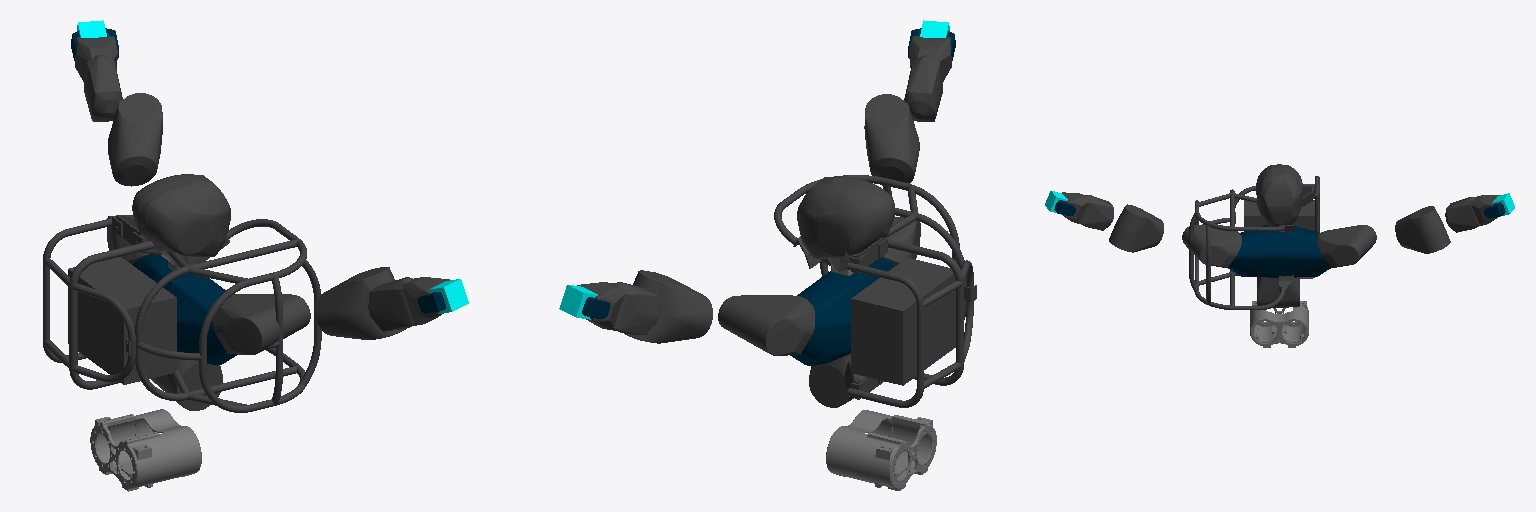
--- What the picture shows (computed from the rendered views, not written in the file) ---
Views: 3 orthographic renders of the robot side by side, from view 1: azimuth 30°, elevation 25°; view 2: azimuth 150°, elevation 25°; view 3: azimuth 270°, elevation 25°.
Model bigman with 43 links and 42 joints (21 revolute, 21 fixed), rooted at base_link, posed joints at zero except 2 at the middle of their limits (RShLat = -1.99, LShLat = 1.97).
Links seen in each view (by area): view 1: TorsoProtections, backpack, Waist, multisense/head, RShp, LShy, DWYTorso, RShy, LForearm, RForearm, DWS, LWrMot2 (+2 smaller); view 2: backpack, TorsoProtections, Waist, multisense/head, LShp, DWYTorso, RShy, LShy, RForearm, LForearm, DWS, RWrMot2 (+3 smaller); view 3: DWYTorso, TorsoProtections, multisense/head, Waist, LShy, LShp, RShy, RShp, DWS, LForearm, backpack, RForearm.
Boxes of the visible links, bbox=[...] form: TorsoProtections: bbox=[43, 215, 321, 412]; backpack: bbox=[68, 257, 176, 384]; Waist: bbox=[90, 409, 201, 491]; multisense/head: bbox=[132, 174, 230, 256]; RShp: bbox=[213, 294, 310, 354]; LShy: bbox=[108, 93, 162, 186]; DWYTorso: bbox=[132, 254, 237, 365]; RShy: bbox=[315, 267, 405, 339]; LForearm: bbox=[84, 55, 122, 121]; RForearm: bbox=[368, 277, 416, 331]; DWS: bbox=[151, 359, 222, 410]; LWrMot2: bbox=[75, 36, 117, 81]; backpack: bbox=[851, 258, 955, 385]; TorsoProtections: bbox=[774, 175, 976, 407]; Waist: bbox=[826, 410, 936, 490]; multisense/head: bbox=[797, 176, 894, 258]; LShp: bbox=[718, 295, 814, 355]; DWYTorso: bbox=[790, 258, 894, 365]; RShy: bbox=[864, 94, 919, 183]; LShy: bbox=[625, 270, 712, 343]; RForearm: bbox=[904, 55, 942, 121]; LForearm: bbox=[612, 282, 659, 334]; DWS: bbox=[809, 354, 853, 407]; RWrMot2: bbox=[909, 36, 951, 81]; DWYTorso: bbox=[1227, 225, 1331, 277]; TorsoProtections: bbox=[1189, 176, 1319, 309]; multisense/head: bbox=[1256, 164, 1302, 227]; Waist: bbox=[1250, 301, 1308, 347]; LShy: bbox=[1395, 206, 1450, 253]; LShp: bbox=[1317, 225, 1376, 267]; RShy: bbox=[1109, 204, 1163, 252]; RShp: bbox=[1182, 225, 1241, 267]; DWS: bbox=[1257, 277, 1299, 308]; LForearm: bbox=[1445, 197, 1480, 232]; backpack: bbox=[1244, 200, 1314, 230]; RForearm: bbox=[1079, 195, 1113, 230].
Size in the robot's own frame: 0.6884 by 2 by 0.8566 metres.
Meshes: 16 distinct files referenced, 17 mesh visuals loaded (12 binary STL); not drawn: 1 (reference not matched to a file when rendering), 5 (file found but could not be loaded).

robot.urdf — bigman:
<?xml version="1.0" ?>
<!-- =================================================================================== -->
<!-- |    This document was autogenerated by xacro from bigman.urdf.xacro              | -->
<!-- |    EDITING THIS FILE BY HAND IS NOT RECOMMENDED                                 | -->
<!-- =================================================================================== -->
<robot name="bigman" xmlns:xacro="http://ros.org/wiki/xacro">
  <!-- 
  ROS urdf definition of the BIGMAN humanoid robot by Istituto Italiano di Tecnologia
  
  DO NOT INCLUDE THIS FILE DIRECTLY! USE bigman_robot.urdf.xacro INSTEAD!

  Author: Enrico Mingo & Alessio Rocchi

  Inertial matrix has to be in CoM frame (URDF specs)

  Velocity and effort limits are fake!
-->
  <material name="grey">
    <color rgba="0.5 0.5 0.5 1"/>
  </material>
  <material name="dark_grey">
    <color rgba="0.3 0.3 0.3 1"/>
  </material>
  <material name="blue">
    <color rgba="0.0 0.2 0.3 1"/>
  </material>
  <!-- 
  ROS urdf definition of the BIGMAN humanoid robot by Istituto Italiano di Tecnologia
  
  DO NOT INCLUDE THIS FILE DIRECTLY! USE bigman_robot.urdf.xacro INSTEAD!

  Author: Enrico Mingo & Alessio Rocchi

  Inertial matrix has to be in CoM frame (URDF specs)

  Velocity and effort limits are fake!
-->
  <!--
The coordinate frame called base_link is rigidly attached to the robot root body. It is recommended to choose the robot waist as its root body. The base_link can be attached to the root in any arbitrary position or orientation; for every hardware platform there will be a different place on the base that provides an obvious point of reference. Note that REP 103 [1] specifies a preferred orientation for frames. -->
  <link name="base_link"/>
  <link name="Waist">
    <inertial>
      <origin rpy="0.0 0.0 0.0" xyz="-0.022813402 -0.00073935443 0.030422909"/>
      <mass value="1.1046081e+01"/>
      <inertia ixx="0.096207978" ixy="0.00014081043" ixz="0.0031258127" iyy="0.098511158" iyz="0.00013938149" izz="0.086541531"/>
    </inertial>
    <visual>
      <origin rpy="0 0 0" xyz="0 0 0"/>
      <geometry name="Waist_visual">
        <mesh filename="package://bigman_urdf/meshes/Waist.STL" scale="0.001 0.001 0.001"/>
      </geometry>
      <material name="grey"/>
    </visual>
    <collision>
      <origin rpy="0 0 0" xyz="0 0 0"/>
      <geometry name="Waist_collision">
        <mesh filename="package://bigman_urdf/meshes/simple/Waist.STL" scale="0.001 0.001 0.001"/>
      </geometry>
    </collision>
  </link>
  <joint name="base_joint" type="fixed">
    <parent link="base_link"/>
    <child link="Waist"/>
    <origin rpy="0 0 0" xyz="0 0 0"/>
  </joint>
  <!-- Scale factor for meshes -->
  <!-- LINKS -->
  <!-- This links are defined in order to be compliant with http://www.ros.org/reps/rep-0120.html#coordinate-frames
and to define the end effectors of the robot-->
  <!-- The coordinate frame called torso is attached to the lowest body of the model which is a parent of l_gripper, r_gripper and gaze. -->
  <link name="torso"/>
  <link name="DWL">
    <inertial>
      <origin rpy="0 0 0" xyz="-0.04610869 0.02232230 -0.02249514"/>
      <mass value="1.44965471"/>
      <inertia ixx="0.01096760" ixy="0.00111556" ixz="0.00030030" iyy="0.00409572" iyz="0.00054456" izz="0.01143795"/>
    </inertial>
    <visual>
      <origin rpy="0 0 0" xyz="0.0 0.0 0.0"/>
      <geometry name="DWL_visual">
        <mesh filename="package://bigman_urdf/meshes/TorsoRoll.STL" scale="0.001 0.001 0.001"/>
      </geometry>
      <material name="dark_grey"/>
    </visual>
    <collision>
      <origin rpy="0 0 0" xyz="0.0 0.0 0.0"/>
      <geometry name="DWL_collision">
        <mesh filename="package://bigman_urdf/meshes/simple/TorsoRoll.STL" scale="0.001 0.001 0.001"/>
      </geometry>
    </collision>
  </link>
  <link name="DWS">
    <inertial>
      <origin rpy="0 0 0" xyz="0.00010203 0.00928164 0.08113610"/>
      <mass value="5.28825567"/>
      <inertia ixx="0.01628069" ixy="-0.00000323" ixz="0.00001424" iyy="0.01424286" iyz="0.00075458" izz="0.00994169"/>
    </inertial>
    <visual>
      <origin rpy="0 0 0" xyz="0.0 0.0 0.0"/>
      <geometry name="DWS_visual">
        <mesh filename="package://bigman_urdf/meshes/TorsoYawPitch.STL" scale="0.001 0.001 0.001"/>
      </geometry>
      <material name="dark_grey"/>
    </visual>
    <collision>
      <origin rpy="0 0 0" xyz="0.0 0.0 0.0"/>
      <geometry name="DWS_collision">
        <mesh filename="package://bigman_urdf/meshes/simple/TorsoYawPitch.STL" scale="0.001 0.001 0.001"/>
      </geometry>
    </collision>
  </link>
  <link name="DWYTorso">
    <inertial>
      <origin rpy="0 0 0" xyz="0.0 0.00 0.3"/>
      <mass value="26"/>
      <inertia ixx="0.18629757" ixy="0.00008160" ixz="0.00030250" iyy="0.02013829" iyz="-0.00001790" izz="0.18850541"/>
    </inertial>
    <visual>
      <origin rpy="0 0 0" xyz="0.0 0.0 0.0"/>
      <geometry name="DWYTorso_visual">
        <mesh filename="package://bigman_urdf/meshes/NewChest.STL" scale="0.001 0.001 0.001"/>
      </geometry>
      <material name="blue"/>
    </visual>
    <collision>
      <origin rpy="0 0 0" xyz="0.0 0.0 0.0"/>
      <geometry name="DWYTorso_collision">
        <mesh filename="package://bigman_urdf/meshes/simple/NewChest.STL" scale="0.001 0.001 0.001"/>
      </geometry>
    </collision>
  </link>
  <link name="TorsoProtections">
    <inertial>
      <origin rpy="0 0 0" xyz="-0.082963193 7.0747291e-07 0.075409106"/>
      <mass value="4.7"/>
      <inertia ixx="0.14773769" ixy="0.0" ixz="-0.029780072" iyy="0.16085511" iyz="0.0" izz="0.15409381"/>
    </inertial>
    <visual>
      <origin rpy="0 0 0" xyz="0.0 0.0 0.0"/>
      <geometry name="TorsoProtections_visual">
        <mesh filename="package://bigman_urdf/meshes/ProtectionSystem.STL" scale="0.001 0.001 0.001"/>
      </geometry>
      <material name="dark_grey"/>
    </visual>
    <collision>
      <origin rpy="0 0 0" xyz="0.0 0.0 0.0"/>
      <geometry name="TorsoProtections_collision">
        <mesh filename="package://bigman_urdf/meshes/simple/ProtectionSystem.STL" scale="0.001 0.001 0.001"/>
      </geometry>
    </collision>
  </link>
  <link name="backpack">
    <inertial>
      <origin rpy="0 0 0" xyz="0 0 -0.065"/>
      <mass value="10.0"/>
      <inertia ixx="0.0890833333333" ixy="0.0" ixz="0.0" iyy="0.0354166666667" iyz="0.0" izz="0.0963333333333"/>
    </inertial>
    <visual>
      <origin rpy="0 0 0" xyz="0.0 0.0 0.0"/>
      <geometry name="backpack_visual">
        <box size="0.16 0.3 0.22"/>
      </geometry>
      <material name="dark_grey"/>
    </visual>
    <collision>
      <origin rpy="0 0 0" xyz="0.0 0.0 0.0"/>
      <geometry name="backpack_collision">
        <box size="0.16 0.3 0.22"/>
      </geometry>
    </collision>
  </link>
  <joint name="backpack_joint" type="fixed">
    <parent link="DWYTorso"/>
    <child link="backpack"/>
    <origin rpy="0 0 0" xyz="-0.185 0 -0.025"/>
  </joint>
  <joint name="torso_protection_joint" type="fixed">
    <parent link="DWYTorso"/>
    <child link="TorsoProtections"/>
    <origin rpy="0 0 0" xyz="0.0 0 0.0"/>
  </joint>
  <joint name="torso_joint" type="fixed">
    <parent link="DWYTorso"/>
    <child link="torso"/>
    <origin rpy="0 0 0" xyz="0.0 0 0.0"/>
  </joint>
  <joint name="WaistLat" type="revolute">
    <parent link="Waist"/>
    <child link="DWL"/>
    <origin rpy="0 0 0" xyz="0.1115 0 0.195982"/>
    <axis xyz="0.89879991307 0 0.43835911792"/>
    <limit effort="120" lower="-0.610865238198" upper="0.610865238198" velocity="6.283"/>
    <dynamics damping="3.0" friction="0"/>
  </joint>
  <joint name="WaistSag" type="revolute">
    <parent link="DWL"/>
    <child link="DWS"/>
    <origin rpy="0 0 0" xyz="0 0 0"/>
    <axis xyz="0 1 0"/>
    <limit effort="220" lower="-0.349065850399" upper="1.3962634016" velocity="6.283"/>
    <dynamics damping="3.0" friction="0"/>
  </joint>
  <joint name="WaistYaw" type="revolute">
    <parent link="DWS"/>
    <child link="DWYTorso"/>
    <origin rpy="0 0 0" xyz="0 0 0.22275"/>
    <axis xyz="0 0 1"/>
    <limit effort="120" lower="-2.84488668075" upper="2.84488668075" velocity="6.283"/>
    <dynamics damping="3.0" friction="0"/>
  </joint>
  <!-- LINKS -->
  <link name="NeckYaw">
    <inertial>
      <origin rpy="0 0 0" xyz="0.0 0.0 0.1155"/>
      <mass value="0.35"/>
      <inertia ixx="0.00032840119" ixy="0.0" ixz="0.0" iyy="7.0371675e-05" iyz="0.0" izz="0.00032840111"/>
    </inertial>
    <visual>
      <origin rpy="0 0 0" xyz="0.0 0.0 0.0"/>
      <geometry name="NeckYaw_visual">
        <mesh filename="package://bigman_urdf/meshes/NeckYaw.STL" scale="0.001 0.001 0.001"/>
      </geometry>
      <material name="grey"/>
    </visual>
    <collision>
      <origin rpy="0 0 0" xyz="0.0 0.0 0.0"/>
      <geometry name="NeckYaw_collision">
        <mesh filename="package://bigman_urdf/meshes/simple/NeckYaw.STL" scale="0.001 0.001 0.001"/>
      </geometry>
    </collision>
  </link>
  <link name="NeckPitch">
    <inertial>
      <origin rpy="0 0 0" xyz="-0.102 0.0 0.26575"/>
      <mass value="0.623"/>
      <inertia ixx="0.0010388333" ixy="0.0" ixz="0.0" iyy="0.00054689381" iyz="0.0" izz="0.00054689381"/>
    </inertial>
    <visual>
      <origin rpy="0 0 0" xyz="0.0 0.0 0.0"/>
      <geometry name="NeckPitch_visual">
        <mesh filename="package://bigman_urdf/meshes/NeckPitch.STL" scale="0.001 0.001 0.001"/>
      </geometry>
      <material name="grey"/>
    </visual>
    <collision>
      <origin rpy="0 0 0" xyz="0.0 0.0 0.0"/>
      <geometry name="NeckPitch_collision">
        <mesh filename="package://bigman_urdf/meshes/simple/NeckPitch.STL" scale="0.001 0.001 0.001"/>
      </geometry>
    </collision>
  </link>
  <!-- JOINTS -->
  <joint name="NeckYawj" type="revolute">
    <parent link="DWYTorso"/>
    <child link="NeckYaw"/>
    <origin rpy="0 0 0" xyz="0 0 0"/>
    <axis xyz="0 0 1"/>
    <!--     <limit velocity="6.283" effort="120" lower="${(-175.0)*toRad}" upper="${(175.0)*toRad}" /> -->
    <limit effort="120" lower="-0.610865238198" upper="0.610865238198" velocity="6.283"/>
    <dynamics damping="3.0" friction="0"/>
  </joint>
  <joint name="NeckPitchj" type="revolute">
    <parent link="NeckYaw"/>
    <child link="NeckPitch"/>
    <origin rpy="0 0 0" xyz="0 0 0.117"/>
    <axis xyz="0 1 0"/>
    <!--limit velocity="6.283" effort="120" lower="${(-30.0)*toRad}" upper="${(70.0)*toRad}" /-->
    <limit effort="120" lower="-0.261799387799" upper="1.0471975512" velocity="6.283"/>
    <dynamics damping="3.0" friction="0"/>
  </joint>
  <!-- LINKS -->
  <!-- RIGHT ARM -->
  <link name="RShp">
    <inertial>
      <origin rpy="0 0 0" xyz="-0.00543349 -0.04480023 0.01581062"/>
      <mass value="1.81745527"/>
      <inertia ixx="0.00571053" ixy="0.00041083" ixz="-0.00005130" iyy="0.01126908" iyz="-0.00003461" izz="0.01371197"/>
    </inertial>
    <visual>
      <origin rpy="0 0 0" xyz="0 0 0"/>
      <geometry name="RShp_visual">
        <mesh filename="package://bigman_urdf/meshes/ShoulderPitch.STL" scale="0.001 0.001 0.001"/>
      </geometry>
      <material name="dark_grey"/>
    </visual>
    <collision>
      <origin rpy="0 0 0" xyz="0 0 0"/>
      <geometry name="RShp_collision">
        <mesh filename="package://bigman_urdf/meshes/simple/ShoulderPitch.STL" scale="0.001 0.001 0.001"/>
      </geometry>
    </collision>
  </link>
  <link name="RShr">
    <inertial>
      <origin rpy="0 0 0" xyz="0.00729315 0.00002698 -0.07529696"/>
      <mass value="5.00486460"/>
      <inertia ixx="0.01644345" ixy="-0.00001187" ixz="-0.00010546" iyy="0.01804804" iyz="-0.00000565" izz="0.00802420"/>
    </inertial>
    <visual>
      <origin rpy="0 0 0" xyz="0 0 0"/>
      <geometry name="RShr_visual">
        <mesh filename="package://bigman_urdf/meshes/TopUpperArm.STL" scale="0.001 0.001 0.001"/>
      </geometry>
      <material name="dark_grey"/>
    </visual>
    <collision>
      <origin rpy="0 0 0" xyz="0 0 0"/>
      <geometry name="RShr_collision">
        <mesh filename="package://bigman_urdf/meshes/simple/TopUpperArm.STL" scale="0.001 0.001 0.001"/>
      </geometry>
    </collision>
  </link>
  <link name="RShy">
    <inertial>
      <origin rpy="0 0 0" xyz="0.02765373 -0.03258647 -0.12698781"/>
      <mass value="3.20289133"/>
      <inertia ixx="0.01129046" ixy="0.00013518" ixz="-0.00134760" iyy="0.00984951" iyz="-0.00026836" izz="0.00728549"/>
    </inertial>
    <visual>
      <origin rpy="0 0 0" xyz="0 0 0"/>
      <geometry name="RShy_visual">
        <mesh filename="package://bigman_urdf/meshes/BottomUpperArm.STL" scale="0.001 0.001 0.001"/>
      </geometry>
      <material name="dark_grey"/>
    </visual>
    <collision>
      <origin rpy="0 0 0" xyz="0 0 0"/>
      <geometry name="RShy_collision">
        <mesh filename="package://bigman_urdf/meshes/simple/BottomUpperArm.STL" scale="0.001 0.001 0.001"/>
      </geometry>
    </collision>
  </link>
  <link name="RElb">
    <inertial>
      <origin rpy="0 0 0" xyz="-0.055754915 -0.007582604 -0.043820396"/>
      <mass value="8.6765385e-01"/>
      <inertia ixx="0.0040395238" ixy="0.00034973136" ixz="-0.00068400465" iyy="0.0022460561" iyz="0.00028844444" izz="0.0044895027"/>
    </inertial>
    <visual>
      <origin rpy="0 0 0" xyz="0 0 0"/>
      <geometry name="RElb_visual">
        <mesh filename="package://bigman_urdf/meshes/Elbow.STL" scale="0.001 0.001 0.001"/>
      </geometry>
      <material name="dark_grey"/>
    </visual>
    <collision>
      <origin rpy="0 0 0" xyz="0 0 0"/>
      <geometry name="RElb_collision">
        <mesh filename="package://bigman_urdf/meshes/simple/Elbow.STL" scale="0.001 0.001 0.001"/>
      </geometry>
    </collision>
  </link>
  <!-- LEFT ARM -->
  <link name="LShp">
    <inertial>
      <origin rpy="0 0 0" xyz="-0.00543349 0.04480023 0.01581062"/>
      <mass value="1.81745527"/>
      <inertia ixx="0.00571053" ixy="-0.00041083" ixz="-0.00005130" iyy="0.01126908" iyz="0.00003461" izz="0.01371197"/>
    </inertial>
    <visual>
      <origin rpy="0 0 0" xyz="0 0 0"/>
      <geometry name="LShp_visual">
        <mesh filename="package://bigman_urdf/meshes/ShoulderPitch.STL" scale="0.001 -0.001 0.001"/>
      </geometry>
      <material name="dark_grey"/>
    </visual>
    <collision>
      <origin rpy="0 0 0" xyz="0 0 0"/>
      <geometry name="LShp_collision">
        <mesh filename="package://bigman_urdf/meshes/simple/ShoulderPitch.STL" scale="0.001 -0.001 0.001"/>
      </geometry>
    </collision>
  </link>
  <link name="LShr">
    <inertial>
      <origin rpy="0 0 0" xyz="0.00729315 -0.00002698 -0.07529696"/>
      <mass value="5.00486460"/>
      <inertia ixx="0.01644345" ixy="0.00001187" ixz="-0.00010546" iyy="0.01804804" iyz="0.00000565" izz="0.00802420"/>
    </inertial>
    <visual>
      <origin rpy="0 0 0" xyz="0 0 0"/>
      <geometry name="LShr_visual">
        <mesh filename="package://bigman_urdf/meshes/TopUpperArm.STL" scale="0.001 -0.001 0.001"/>
      </geometry>
      <material name="dark_grey"/>
    </visual>
    <collision>
      <origin rpy="0 0 0" xyz="0 0 0"/>
      <geometry name="LShr_collision">
        <mesh filename="package://bigman_urdf/meshes/simple/TopUpperArm.STL" scale="0.001 -0.001 0.001"/>
      </geometry>
    </collision>
  </link>
  <link name="LShy">
    <inertial>
      <origin rpy="0 0 0" xyz="0.02765373 0.03258647 -0.12698781"/>
      <mass value="3.20289133"/>
      <inertia ixx="0.01129046" ixy="-0.00013518" ixz="-0.00134760" iyy="0.00984951" iyz="0.00026836" izz="0.00728549"/>
    </inertial>
    <visual>
      <origin rpy="0 0 0" xyz="0 0 0"/>
      <geometry name="LShy_visual">
        <mesh filename="package://bigman_urdf/meshes/BottomUpperArm.STL" scale="0.001 -0.001 0.001"/>
      </geometry>
      <material name="dark_grey"/>
    </visual>
    <collision>
      <origin rpy="0 0 0" xyz="0 0 0"/>
      <geometry name="LShy_collision">
        <mesh filename="package://bigman_urdf/meshes/simple/BottomUpperArm.STL" scale="0.001 -0.001 0.001"/>
      </geometry>
    </collision>
  </link>
  <link name="LElb">
    <inertial>
      <origin rpy="0 0 0" xyz="-0.055754915 0.007582604 -0.043820396"/>
      <mass value="8.6765385e-01"/>
      <inertia ixx="0.0040395238" ixy="-0.00034973136" ixz="-0.00068400465" iyy="0.0022460561" iyz="-0.00028844444" izz="0.0044895027"/>
    </inertial>
    <visual>
      <origin rpy="0 0 0" xyz="0 0 0"/>
      <geometry name="LElb_visual">
        <mesh filename="package://bigman_urdf/meshes/Elbow.STL" scale="0.001 -0.001 0.001"/>
      </geometry>
      <material name="dark_grey"/>
    </visual>
    <collision>
      <origin rpy="0 0 0" xyz="0 0 0"/>
      <geometry name="LElb_collision">
        <mesh filename="package://bigman_urdf/meshes/simple/Elbow.STL" scale="0.001 -0.001 0.001"/>
      </geometry>
    </collision>
  </link>
  <!-- JOINTS -->
  <!-- RIGHT ARM -->
  <joint name="RShSag" type="revolute">
    <parent link="DWYTorso"/>
    <child link="RShp"/>
    <origin rpy="0 0 0.3491" xyz="0.045646 -0.219164 0.001531"/>
    <axis xyz="0 0.743144825 -0.669130606"/>
    <limit effort="120" lower="-2.84488668075" upper="2.80998009571" velocity="6.283"/>
    <dynamics damping="3.0" friction="0"/>
  </joint>
  <joint name="RShLat" type="revolute">
    <parent link="RShp"/>
    <child link="RShr"/>
    <origin rpy="0 0 0" xyz="0.0 -0.116568264 0.03364"/>
    <axis xyz="1 0 0"/>
    <limit effort="120" lower="-3.85717764691" upper="-0.12217304764" velocity="6.283"/>
    <dynamics damping="3.0" friction="0"/>
  </joint>
  <joint name="RShYaw" type="revolute">
    <parent link="RShr"/>
    <child link="RShy"/>
    <origin rpy="0 0 0" xyz="0.0 0.0 -0.222"/>
    <axis xyz="0 0 1"/>
    <limit effort="120" lower="-2.86233997327" upper="2.82743338823" velocity="6.283"/>
    <dynamics damping="3.0" friction="0"/>
  </joint>
  <joint name="RElbj" type="revolute">
    <parent link="RShy"/>
    <child link="RElb"/>
    <origin rpy="0 0 0" xyz="0.036 0.0 -0.15"/>
    <axis xyz="0 1 0"/>
    <limit effort="120" lower="-2.96705972839" upper="0.593411945678" velocity="6.283"/>
    <dynamics damping="3.0" friction="0"/>
  </joint>
  <!-- LEFT ARM -->
  <joint name="LShSag" type="revolute">
    <parent link="DWYTorso"/>
    <child link="LShp"/>
    <origin rpy="0 0 -0.3491" xyz="0.045646 0.219164 0.001531"/>
    <axis xyz="0.0 0.743144825 0.669130606"/>
    <limit effort="120" lower="-2.87979326579" upper="2.79252680319" velocity="6.283"/>
    <dynamics damping="3.0" friction="0"/>
  </joint>
  <joint name="LShLat" type="revolute">
    <parent link="LShp"/>
    <child link="LShr"/>
    <origin rpy="0 0 0" xyz="0.0 0.116568264 0.03364"/>
    <axis xyz="1 0 0"/>
    <limit effort="120" lower="0.0872664625997" upper="3.85717764691" velocity="6.283"/>
    <dynamics damping="3.0" friction="0"/>
  </joint>
  <joint name="LShYaw" type="revolute">
    <parent link="LShr"/>
    <child link="LShy"/>
    <origin rpy="0 0 0" xyz="0.0 0.0 -0.222"/>
    <axis xyz="0 0 1"/>
    <limit effort="120" lower="-2.84488668075" upper="2.84488668075" velocity="6.283"/>
    <dynamics damping="3.0" friction="0"/>
  </joint>
  <joint name="LElbj" type="revolute">
    <parent link="LShy"/>
    <child link="LElb"/>
    <origin rpy="0 0 0" xyz="0.036 0.0 -0.15"/>
    <axis xyz="0 1 0"/>
    <limit effort="120" lower="-2.96705972839" upper="0.593411945678" velocity="6.283"/>
    <dynamics damping="3.0" friction="0"/>
  </joint>
  <link name="l_arm_ft"/>
  <link name="r_arm_ft"/>
  <joint name="l_arm_ft_joint" type="fixed">
    <parent link="LWrMot3"/>
    <child link="l_arm_ft"/>
    <origin rpy="0 0 0" xyz="0 0 -0.0565"/>
  </joint>
  <joint name="r_arm_ft_joint" type="fixed">
    <parent link="RWrMot3"/>
    <child link="r_arm_ft"/>
    <origin rpy="0 0 0" xyz="0 0 -0.0565"/>
  </joint>
  <!-- ************ FOREARMS ************ -->
  <!-- This links are defined in order to be compliant with http://www.ros.org/reps/rep-0120.html#coordinate-frames
	and to define the end effectors of the robot -->
  <!-- position and orientation of the arm regardless of the tool (grasping device for instance) attached to it -->
  <link name="l_wrist"/>
  <link name="r_wrist"/>
  <!-- ****************LINKS**************** -->
  <!-- ****************LEFT FOREARM**************** -->
  <link name="LForearm">
    <inertial>
      <origin rpy="0 0 0" xyz="1.2625599e-05 0.0042975381 0.044717986"/>
      <mass value="2.2127686"/>
      <inertia ixx="0.0065428368" ixy="-4.1196967e-05" ixz="3.272727e-06" iyy="0.005587829" iyz="0.00042088668" izz="0.0024783023"/>
    </inertial>
    <visual>
      <origin rpy="0 0 0" xyz="0 0 0"/>
      <geometry name="LForearm_visual">
        <mesh filename="package://bigman_urdf/meshes/Forearm.STL" scale="0.001 -0.001 0.001"/>
      </geometry>
      <material name="dark_grey"/>
    </visual>
    <collision>
      <origin rpy="0 0 0" xyz="0 0 0"/>
      <geometry name="LForearm_collision">
        <mesh filename="package://bigman_urdf/meshes/simple/Forearm.STL" scale="0.001 -0.001 0.001"/>
      </geometry>
    </collision>
  </link>
  <link name="LWrMot2">
    <inertial>
      <origin rpy="0 0 0" xyz="0.009819377 0.0013797184 -0.080380065"/>
      <mass value="1.2838072"/>
      <inertia ixx="0.001994124" ixy="2.569706e-05" ixz="0.00017443538" iyy="0.0021755329" iyz="-0.00012100987" izz="0.001830376"/>
    </inertial>
    <visual>
      <origin rpy="0 0 0" xyz="0 0 0"/>
      <geometry name="LWrMot2_visual">
        <mesh filename="package://bigman_urdf/meshes/ForearmPitch.STL" scale="0.001 -0.001 0.001"/>
      </geometry>
      <material name="dark_grey"/>
    </visual>
    <collision>
      <origin rpy="0 0 0" xyz="0 0 0"/>
      <geometry name="LWrMot2_collision">
        <mesh filename="package://bigman_urdf/meshes/simple/ForearmPitch.STL" scale="0.001 -0.001 0.001"/>
      </geometry>
    </collision>
  </link>
  <link name="LWrMot3">
    <inertial>
      <origin rpy="0 0 0" xyz="0.0070380706 -1.0811188e-05 -0.039669274"/>
      <mass value="4.2801447e-01"/>
      <inertia ixx="0.00028620156" ixy="5.2570457e-08" ixz="-3.9174213e-05" iyy="0.00071261855" iyz="-9.5020266e-08" izz="0.00061444258"/>
    </inertial>
    <visual>
      <origin rpy="0 0 0" xyz="0 0 0"/>
      <geometry name="LWrMot3_visual">
        <mesh filename="package://bigman_urdf/meshes/ForearmRoll.STL" scale="0.001 -0.001 0.001"/>
      </geometry>
      <material name="blue"/>
    </visual>
    <collision>
      <origin rpy="0 0 0" xyz="0 0 0"/>
      <geometry name="LWrMot3_collision">
        <mesh filename="package://bigman_urdf/meshes/simple/ForearmRoll.STL" scale="0.001 -0.001 0.001"/>
      </geometry>
    </collision>
  </link>
  <!-- ****************RIGHT FOREARM**************** -->
  <link name="RForearm">
    <inertial>
      <origin rpy="0 0 0" xyz="1.2625599e-05 -0.0042975381 0.044717986"/>
      <mass value="2.2127686"/>
      <inertia ixx="0.0065428368" ixy="4.1196967e-05" ixz="3.272727e-06" iyy="0.005587829" iyz="-0.00042088668" izz="0.0024783023"/>
    </inertial>
    <visual>
      <origin rpy="0 0 0" xyz="0 0 0"/>
      <geometry name="RForearm_visual">
        <mesh filename="package://bigman_urdf/meshes/Forearm.STL" scale="0.001 0.001 0.001"/>
      </geometry>
      <material name="dark_grey"/>
    </visual>
    <collision>
      <origin rpy="0 0 0" xyz="0 0 0"/>
      <geometry name="RForearm_collision">
        <mesh filename="package://bigman_urdf/meshes/simple/Forearm.STL" scale="0.001 0.001 0.001"/>
      </geometry>
    </collision>
  </link>
  <link name="RWrMot2">
    <inertial>
      <origin rpy="0 0 0" xyz="0.009819377 -0.0013797184 -0.080380065"/>
      <mass value="1.2838072"/>
      <inertia ixx="0.001994124" ixy="-2.569706e-05" ixz="0.00017443538" iyy="0.0021755329" iyz="0.00012100987" izz="0.001830376"/>
    </inertial>
    <visual>
      <origin rpy="0 0 0" xyz="0 0 0"/>
      <geometry name="RWrMot2_visual">
        <mesh filename="package://bigman_urdf/meshes/ForearmPitch.STL" scale="0.001 0.001 0.001"/>
      </geometry>
      <material name="dark_grey"/>
    </visual>
    <collision>
      <origin rpy="0 0 0" xyz="0 0 0"/>
      <geometry name="RWrMot2_collision">
        <mesh filename="package://bigman_urdf/meshes/simple/ForearmPitch.STL" scale="0.001 0.001 0.001"/>
      </geometry>
    </collision>
  </link>
  <link name="RWrMot3">
    <inertial>
      <origin rpy="0 0 0" xyz="0.0070380706 1.0811188e-05 -0.039669274"/>
      <mass value="4.2801447e-01"/>
      <inertia ixx="0.00028620156" ixy="-5.2570457e-08" ixz="-3.9174213e-05" iyy="0.00071261855" iyz="9.5020266e-08" izz="0.00061444258"/>
    </inertial>
    <visual>
      <origin rpy="0 0 0" xyz="0 0 0"/>
      <geometry name="RWrMot3_visual">
        <mesh filename="package://bigman_urdf/meshes/ForearmRoll.STL" scale="0.001 0.001 0.001"/>
      </geometry>
      <material name="blue"/>
    </visual>
    <collision>
      <origin rpy="0 0 0" xyz="0 0 0"/>
      <geometry name="RWrMot3_collision">
        <mesh filename="package://bigman_urdf/meshes/simple/ForearmRoll.STL" scale="0.001 0.001 0.001"/>
      </geometry>
    </collision>
  </link>
  <!-- ****************JOINTS**************** -->
  <!-- ****************LEFT FOREARM**************** -->
  <joint name="LForearmPlate" type="revolute">
    <parent link="LElb"/>
    <child link="LForearm"/>
    <origin rpy="0 0 0" xyz="-0.075 0.0 -0.1955"/>
    <axis xyz="0 0 1"/>
    <limit effort="60" lower="-2.529" upper="2.529" velocity="6.283"/>
    <dynamics damping="0.03" friction="0"/>
  </joint>
  <joint name="LWrj1" type="revolute">
    <parent link="LForearm"/>
    <child link="LWrMot2"/>
    <origin rpy="0 0 0" xyz="0 0 0"/>
    <axis xyz="0 1 0"/>
    <limit effort="60" lower="-1.48" upper="1.48" velocity="6.283"/>
    <dynamics damping="0.03" friction="0"/>
  </joint>
  <joint name="LWrj2" type="revolute">
    <parent link="LWrMot2"/>
    <child link="LWrMot3"/>
    <origin rpy="0 0 0" xyz="0 0 -0.092"/>
    <axis xyz="1 0 0"/>
    <limit effort="60" lower="-1.48" upper="1.48" velocity="6.283"/>
    <dynamics damping="0.03" friction="0"/>
  </joint>
  <joint name="l_wrist_joint" type="fixed">
    <parent link="LWrMot3"/>
    <child link="l_wrist"/>
    <origin rpy="0 0 0" xyz="0 0 0"/>
  </joint>
  <!-- ****************RIGHT FOREARM**************** -->
  <joint name="RForearmPlate" type="revolute">
    <parent link="RElb"/>
    <child link="RForearm"/>
    <origin rpy="0 0 0" xyz="-0.075 0.0 -0.1955"/>
    <axis xyz="0 0 1"/>
    <limit effort="60" lower="-2.529" upper="2.529" velocity="6.283"/>
    <dynamics damping="0.03" friction="0"/>
  </joint>
  <joint name="RWrj1" type="revolute">
    <parent link="RForearm"/>
    <child link="RWrMot2"/>
    <origin rpy="0 0 0" xyz="0 0 0"/>
    <axis xyz="0 1 0"/>
    <limit effort="60" lower="-1.48" upper="1.48" velocity="6.283"/>
    <dynamics damping="0.03" friction="0"/>
  </joint>
  <joint name="RWrj2" type="revolute">
    <parent link="RWrMot2"/>
    <child link="RWrMot3"/>
    <origin rpy="0 0 0" xyz="0 0 -0.092"/>
    <axis xyz="1 0 0"/>
    <limit effort="60" lower="-1.48" upper="1.48" velocity="6.283"/>
    <dynamics damping="0.03" friction="0"/>
  </joint>
  <joint name="r_wrist_joint" type="fixed">
    <parent link="RWrMot3"/>
    <child link="r_wrist"/>
    <origin rpy="0 0 0" xyz="0 0 0"/>
  </joint>
  <!-- LINKS -->
  <!-- ## WRONG NUMBERS FOR... ok lasciamo perde... FIX THEM!! ## -->
  <link name="RSoftHand">
    <inertial>
      <origin rpy="0 0 0" xyz="0 0 -0.17"/>
      <mass value="1.2"/>
      <inertia ixx="0.00232" ixy="0" ixz="0" iyy="0.00296" iyz="0" izz="0.00136"/>
    </inertial>
    <visual>
      <origin rpy="0 0 0" xyz="0 0 0"/>
      <geometry>
        <box size="0.07 0.07 0.07"/>
      </geometry>
      <material name="Cyan">
        <color rgba="0 1.0 1.0 1.0"/>
      </material>
    </visual>
    <collision>
      <origin rpy="0 0 0" xyz="0 0 0"/>
      <geometry>
        <box size="0.07 0.07 0.07"/>
      </geometry>
    </collision>
  </link>
  <link name="LSoftHand">
    <inertial>
      <origin rpy="0 0 0" xyz="0 0 -0.17"/>
      <mass value="1.2"/>
      <inertia ixx="0.00232" ixy="0" ixz="0" iyy="0.00296" iyz="0" izz="0.00136"/>
    </inertial>
    <visual>
      <origin rpy="0 0 0" xyz="0 0 0"/>
      <geometry>
        <box size="0.07 0.07 0.07"/>
      </geometry>
      <material name="Cyan">
        <color rgba="0 1.0 1.0 1.0"/>
      </material>
    </visual>
    <collision>
      <origin rpy="0 0 0" xyz="0 0 0"/>
      <geometry>
        <box size="0.07 0.07 0.07"/>
      </geometry>
    </collision>
  </link>
  <!-- JOINTS -->
  <joint name="r_handj" type="revolute">
    <parent link="RWrMot3"/>
    <child link="RSoftHand"/>
    <origin rpy="0 0 0" xyz="0 0 -0.04"/>
    <axis xyz="1 0 0"/>
    <limit effort="5" lower="0.0" upper="5.0" velocity="4.0"/>
    <dynamics damping="3.0" friction="0"/>
  </joint>
  <joint name="l_handj" type="revolute">
    <parent link="LWrMot3"/>
    <child link="LSoftHand"/>
    <origin rpy="0 0 0" xyz="0 0 -0.04"/>
    <axis xyz="-1 0 0"/>
    <limit effort="5" lower="0" upper="5.0" velocity="4.0"/>
    <dynamics damping="3.0" friction="0"/>
  </joint>
  <joint name="neck_joint" type="fixed">
    <parent link="NeckPitch"/>
    <child link="multisense/head"/>
    <origin rpy="0 0 0" xyz="0.08765 0 0.06475"/>
  </joint>
  <!-- 
       Based on multisense_sl_v4.urdf in multisense_sl_description (DRCSIM) 
-->
  <!-- Head Link Simple Collision Meshes -->
  <link name="multisense/head">
    <inertial>
      <origin rpy="0 0 0" xyz="-0.075493 3.3383E-05 0.02774"/>
      <mass value="1.41984"/>
      <inertia ixx="0.0039688" ixy="-1.5797E-06" ixz="-0.00089293" iyy="0.0041178" iyz="-6.8415E-07" izz="0.0035243"/>
    </inertial>
    <visual>
      <origin rpy="0 0 0" xyz="0 0 0"/>
      <geometry>
        <mesh filename="package://bigman_urdf/meshes/Head.STL" scale="0.001 0.001 0.001"/>
      </geometry>
      <material name="dark_grey"/>
    </visual>
    <collision>
      <origin rpy="0 0 0" xyz="0 0 0"/>
      <geometry>
        <mesh filename="package://bigman_urdf/meshes/simple/Head.STL" scale="0.001 0.001 0.001"/>
      </geometry>
    </collision>
  </link>
  <link name="multisense/hokuyo_link">
    <inertial>
      <origin rpy="0 0 0" xyz="0.032428 0.0004084 -0.0041835"/>
      <mass value="0.057654"/>
      <inertia ixx="3.7174E-05" ixy="4.9927E-08" ixz="1.1015E-05" iyy="4.2412E-05" iyz="-9.8165E-09" izz="4.167E-05"/>
    </inertial>
    <visual>
      <origin rpy="1.5707963267949 0 1.5707963267949" xyz="0 0 0"/>
      <geometry>
        <mesh filename="package://bigman_urdf/meshes/hokuyo_link.STL"/>
      </geometry>
      <material name="black"/>
    </visual>
    <collision>
      <origin rpy="0 0 0" xyz="0.01885 0 -0.02119"/>
      <geometry>
        <box size="0.08 0.06 0.04238"/>
      </geometry>
    </collision>
    <collision>
      <origin rpy="0 0 0" xyz="0.03 0 0.0235"/>
      <geometry>
        <cylinder length="0.047" radius="0.024425"/>
      </geometry>
    </collision>
  </link>
  <joint name="hokuyo_joint" type="fixed">
    <origin rpy="0 0 0" xyz="-0.0446 0 0.0880"/>
    <parent link="multisense/head"/>
    <child link="multisense/hokuyo_link"/>
  </joint>
  <!-- Hokuyo Laser -->
  <joint name="head_hokuyo_joint" type="fixed">
    <axis xyz="0 1 0"/>
    <origin rpy="0 0 0" xyz="0.03 0 0.015"/>
    <parent link="multisense/hokuyo_link"/>
    <child link="multisense/head_hokuyo_frame"/>
  </joint>
  <link name="multisense/head_hokuyo_frame"/>
  <!-- Stereo Camera -->
  <joint name="left_camera_frame_joint" type="fixed">
    <!-- optical frame collocated with tilting DOF -->
    <origin xyz="0.0 0.035 -0.002"/>
    <parent link="multisense/head"/>
    <child link="multisense/left_camera_frame"/>
  </joint>
  <link name="multisense/left_camera_frame"/>
  <joint name="left_camera_optical_frame_joint" type="fixed">
    <origin rpy="-1.5708 0.0 -1.5708" xyz="0 0 0"/>
    <parent link="multisense/left_camera_frame"/>
    <child link="multisense/left_camera_optical_frame"/>
  </joint>
  <link name="multisense/left_camera_optical_frame"/>
  <joint name="right_camera_frame_joint" type="fixed">
    <origin xyz="0.0 -0.035 -0.002"/>
    <parent link="multisense/head"/>
    <child link="multisense/right_camera_frame"/>
  </joint>
  <link name="multisense/right_camera_frame"/>
  <joint name="right_camera_optical_frame_joint" type="fixed">
    <origin rpy="-1.5708 0.0 -1.5708" xyz="0 0 0"/>
    <parent link="multisense/right_camera_frame"/>
    <child link="multisense/right_camera_optical_frame"/>
  </joint>
  <link name="multisense/right_camera_optical_frame"/>
  <joint name="center_top_led_frame_joint" type="fixed">
    <origin xyz="0.01125 0.0 0.0105"/>
    <parent link="multisense/head"/>
    <child link="multisense/center_top_led_frame"/>
  </joint>
  <link name="multisense/center_top_led_frame"/>
  <joint name="center_bottom_led_frame_joint" type="fixed">
    <origin xyz="0.01125 0.0 -0.0155"/>
    <parent link="multisense/head"/>
    <child link="multisense/center_bottom_led_frame"/>
  </joint>
  <link name="multisense/center_bottom_led_frame"/>
  <joint name="left_led_frame_joint" type="fixed">
    <origin rpy="0 0 0.6" xyz="-0.01443 0.07452 0.050346"/>
    <parent link="multisense/head"/>
    <child link="multisense/left_led_frame"/>
  </joint>
  <link name="multisense/left_led_frame"/>
  <joint name="right_led_frame_joint" type="fixed">
    <origin rpy="0 0 -0.6" xyz="-0.01443 -0.07452 0.050346"/>
    <parent link="multisense/head"/>
    <child link="multisense/right_led_frame"/>
  </joint>
  <link name="multisense/right_led_frame"/>
  <!-- imu link -->
  <link name="multisense/head_imu_link">
    <inertial>
      <mass value="1e-5"/>
      <!-- collocate with parent link and remove mass from it -->
      <origin rpy="0 0 0" xyz="-0.122993 0.035033383 0.02774"/>
      <inertia ixx="1e-6" ixy="0" ixz="0" iyy="1e-6" iyz="0" izz="1e-6"/>
    </inertial>
    <visual>
      <origin rpy="0 0 0" xyz="0 0 0"/>
      <geometry>
        <box size="0.01 0.01 0.01"/>
      </geometry>
    </visual>
    <collision>
      <origin rpy="0 0 0" xyz="0 0 0"/>
      <geometry>
        <box size="0.01 0.01 0.01"/>
      </geometry>
    </collision>
  </link>
  <joint name="head_imu_joint" type="fixed">
    <parent link="multisense/head"/>
    <child link="multisense/head_imu_link"/>
    <!-- putting it at the same z-level as the stereo -->
    <origin rpy="0 0 0" xyz="-0.0475 0.035 0.0"/>
  </joint>
  <link name="gaze"/>
  <joint name="gaze_joint" type="fixed">
    <parent link="multisense/head"/>
    <child link="gaze"/>
    <origin rpy="0 0 0" xyz="0 0 0"/>
  </joint>
</robot>
